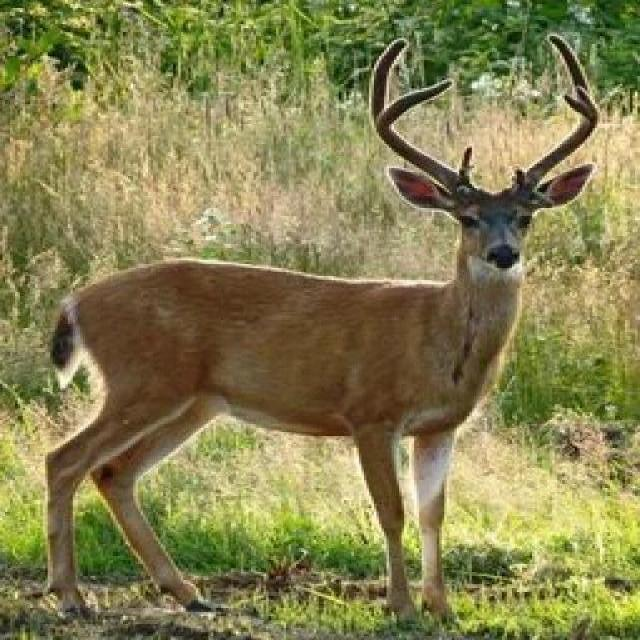deer: (24, 41, 640, 584)
